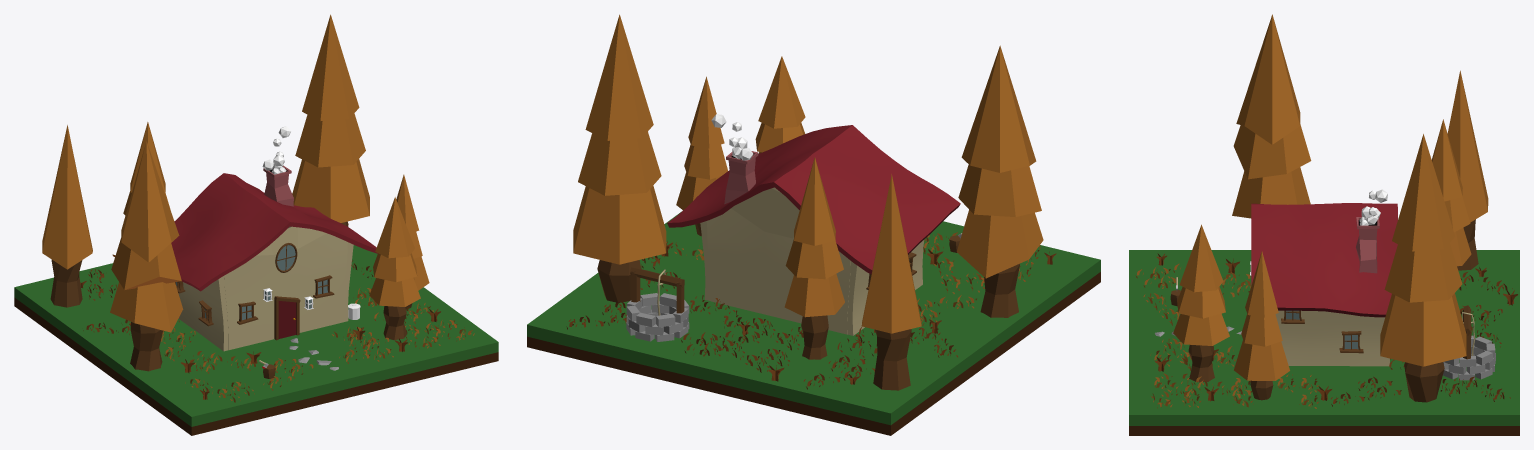
3 renders of one model, left to right at view 1: azimuth 30°, elevation 25°; view 2: azimuth 150°, elevation 25°; view 3: azimuth 270°, elevation 25°, orthographic. The views are drawn at different scales.
Parts seen in each view (by area): view 1: Ground, Roof, pCone13, Front_wall, pCone15, pCone8, pCone7, Walls_sides, pCone5, pCone6, pCylinder3, pCylinder4 (+4 smaller); view 2: Ground, Roof, pCone13, Back_wall, pCone12, pCone7, pCone8, pCone5, pCone6, pCone14, pCone15, Walls_sides (+5 smaller); view 3: Ground, pCone13, Roof, pCone15, Walls_sides, pCone7, pCone14, pCone8, pCone6, pCone12, pCone5, Chimney (+3 smaller).
Boxes of the visible parts, x1=… form: Ground: x1=14, y1=245, x2=498, y2=435; Roof: x1=171, y1=173, x2=377, y2=291; pCone13: x1=292, y1=14, x2=369, y2=226; Front_wall: x1=224, y1=226, x2=347, y2=350; pCone15: x1=369, y1=197, x2=420, y2=340; pCone8: x1=42, y1=125, x2=92, y2=269; pCone7: x1=121, y1=141, x2=179, y2=262; Walls_sides: x1=178, y1=242, x2=353, y2=351; pCone5: x1=110, y1=282, x2=183, y2=332; pCone6: x1=111, y1=238, x2=181, y2=289; pCylinder3: x1=130, y1=322, x2=162, y2=371; pCylinder4: x1=50, y1=260, x2=82, y2=307; Ground: x1=527, y1=211, x2=1100, y2=435; Roof: x1=667, y1=125, x2=960, y2=274; pCone13: x1=573, y1=14, x2=666, y2=302; Back_wall: x1=707, y1=187, x2=850, y2=334; pCone12: x1=784, y1=157, x2=844, y2=359; pCone7: x1=961, y1=45, x2=1036, y2=172; pCone8: x1=861, y1=174, x2=921, y2=333; pCone5: x1=957, y1=210, x2=1043, y2=278; pCone6: x1=958, y1=164, x2=1041, y2=216; pCone14: x1=676, y1=76, x2=727, y2=236; pCone15: x1=755, y1=56, x2=805, y2=153; Walls_sides: x1=700, y1=221, x2=924, y2=335; Ground: x1=1129, y1=250, x2=1519, y2=435; pCone13: x1=1380, y1=134, x2=1466, y2=402; Roof: x1=1251, y1=203, x2=1397, y2=317; pCone15: x1=1173, y1=224, x2=1229, y2=382; Walls_sides: x1=1275, y1=310, x2=1389, y2=366; pCone7: x1=1236, y1=14, x2=1300, y2=144; pCone14: x1=1234, y1=251, x2=1289, y2=400; pCone8: x1=1447, y1=70, x2=1488, y2=222; pCone6: x1=1233, y1=124, x2=1311, y2=179; pCone12: x1=1432, y1=119, x2=1471, y2=266; pCone5: x1=1232, y1=167, x2=1310, y2=218; Chimney: x1=1356, y1=217, x2=1379, y2=273.
Size of the model in its own units: 15.18 by 11.68 by 14.45.
